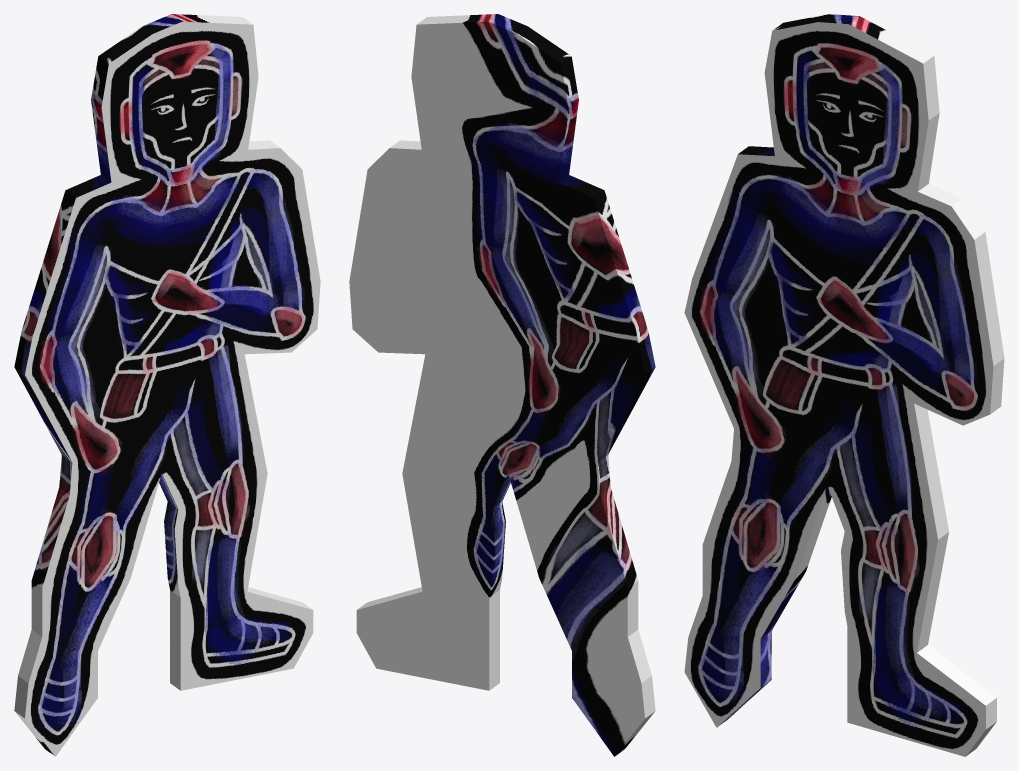
File: new_astro_L.dae
3 renders of one model, left to right at view 1: azimuth 30°, elevation 25°; view 2: azimuth 150°, elevation 25°; view 3: azimuth 330°, elevation 25°, orthographic. The views are drawn at different scales.
Visible parts, largest first — view 1: MeshBody7; view 2: MeshBody7; view 3: MeshBody7.
Boxes of the visible parts, x1,y1,x2,y2 form: MeshBody7: (14, 14, 320, 756); MeshBody7: (349, 14, 655, 756); MeshBody7: (684, 14, 1004, 756).
Size of the model in its own units: 0.81 by 0.05 by 1.84.
1 material, 1 textured.
